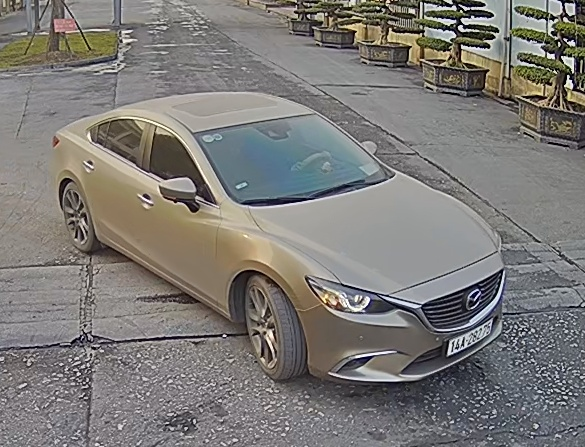vehicle plate: (443, 315, 500, 360)
